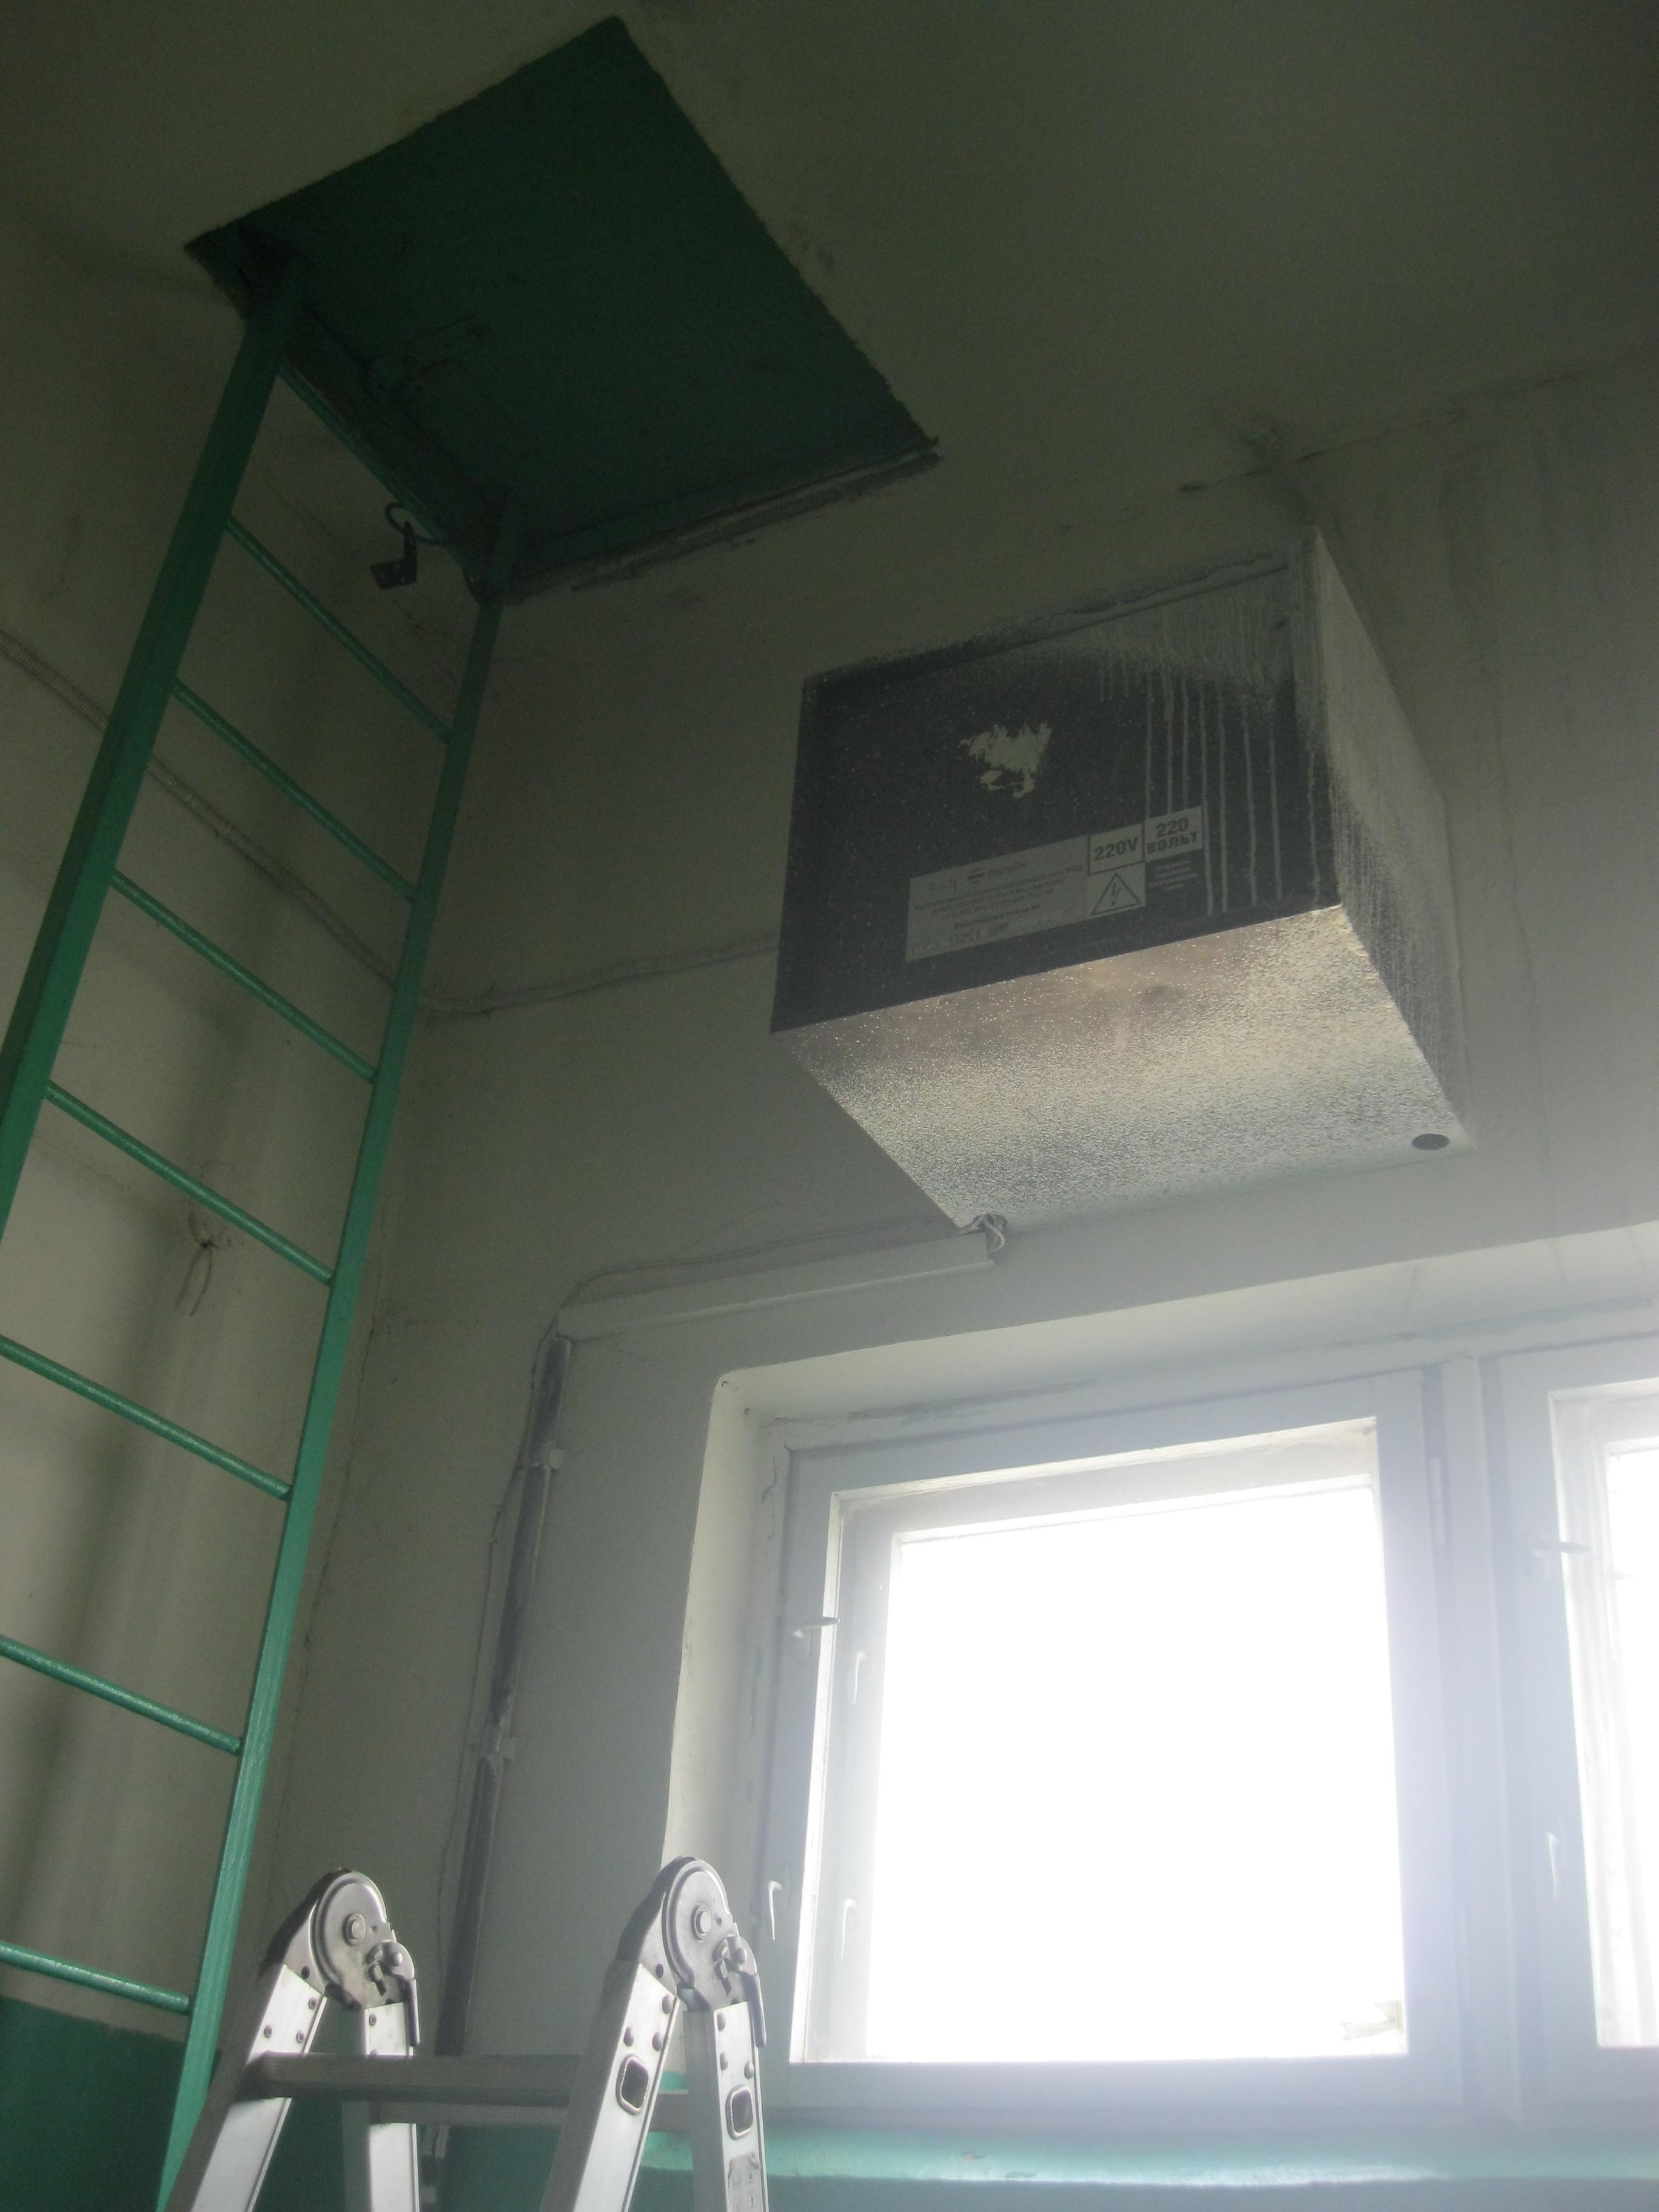shta-9m: (765, 514, 1483, 1238)
